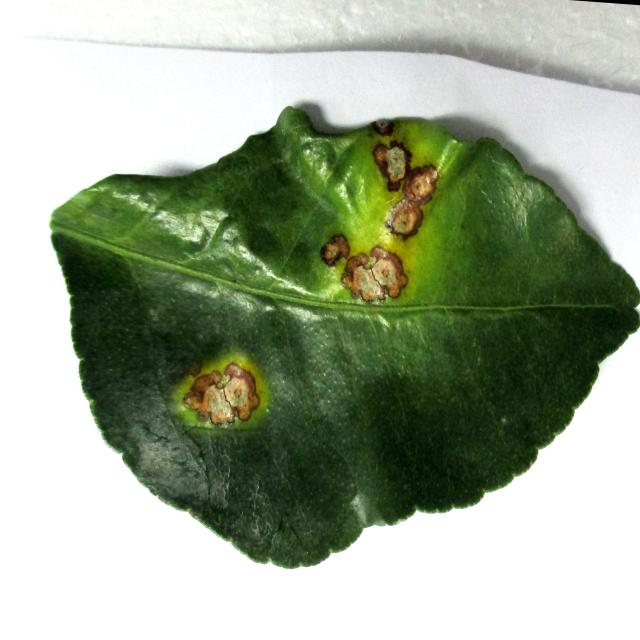antracnose: (51, 108, 640, 568), (183, 363, 259, 425), (342, 253, 384, 301), (371, 246, 408, 298), (373, 141, 411, 191), (386, 199, 423, 239), (403, 165, 438, 205), (320, 234, 350, 267)
